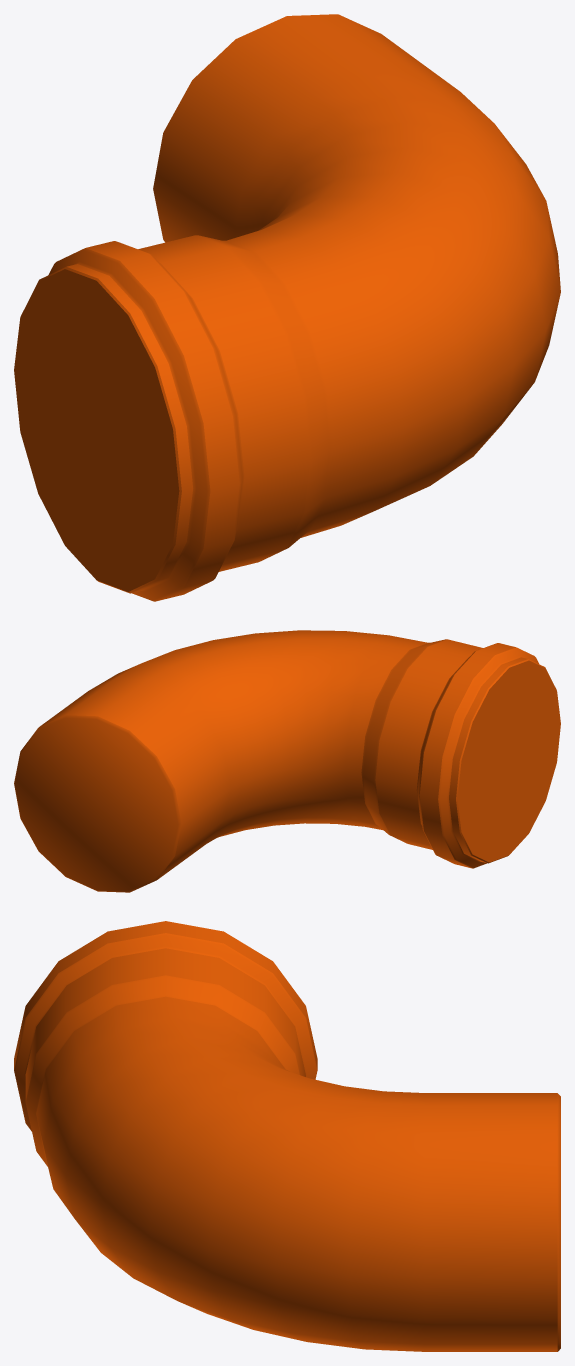
File: PVC_Bend_C.FBX
3 views of the same model, one above another, from view 1: azimuth 30°, elevation 25°; view 2: azimuth 150°, elevation 25°; view 3: azimuth 270°, elevation 25° (orthographic). The views are drawn at different scales.
Parts seen in each view (by area): view 1: PVC_Bend_C; view 2: PVC_Bend_C; view 3: PVC_Bend_C.
Boxes of the visible parts, x1,y1,x2,y2 form: PVC_Bend_C: [14, 14, 560, 601]; PVC_Bend_C: [14, 630, 560, 892]; PVC_Bend_C: [14, 921, 560, 1351].
Bounding box in the file's own units: 33.34 × 18.74 × 33.77.
